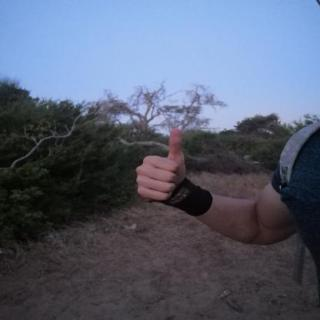ALIF: (128, 123, 195, 209)
